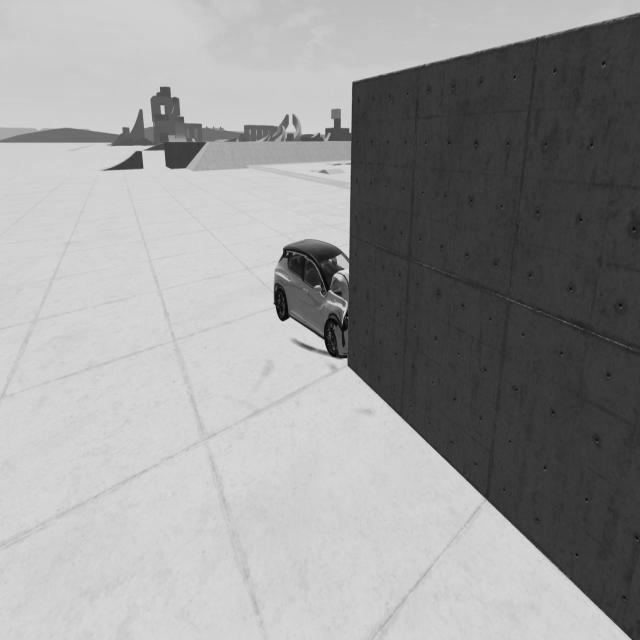accident: (272, 231, 373, 363)
